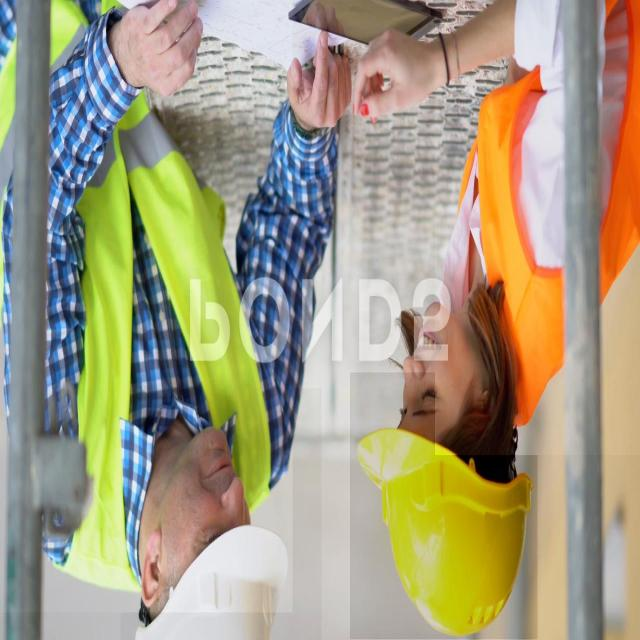Helmet: (120, 388, 322, 640), (350, 373, 538, 639)
Safety Vest: (0, 0, 292, 612), (435, 0, 640, 455)
